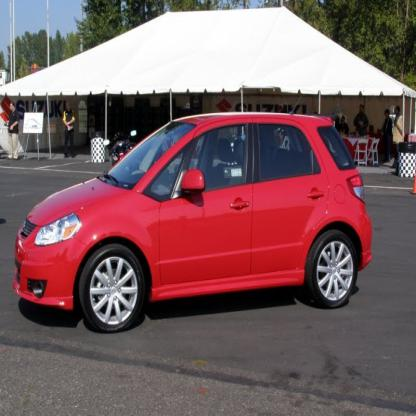Vehicle: (13, 106, 376, 337)
